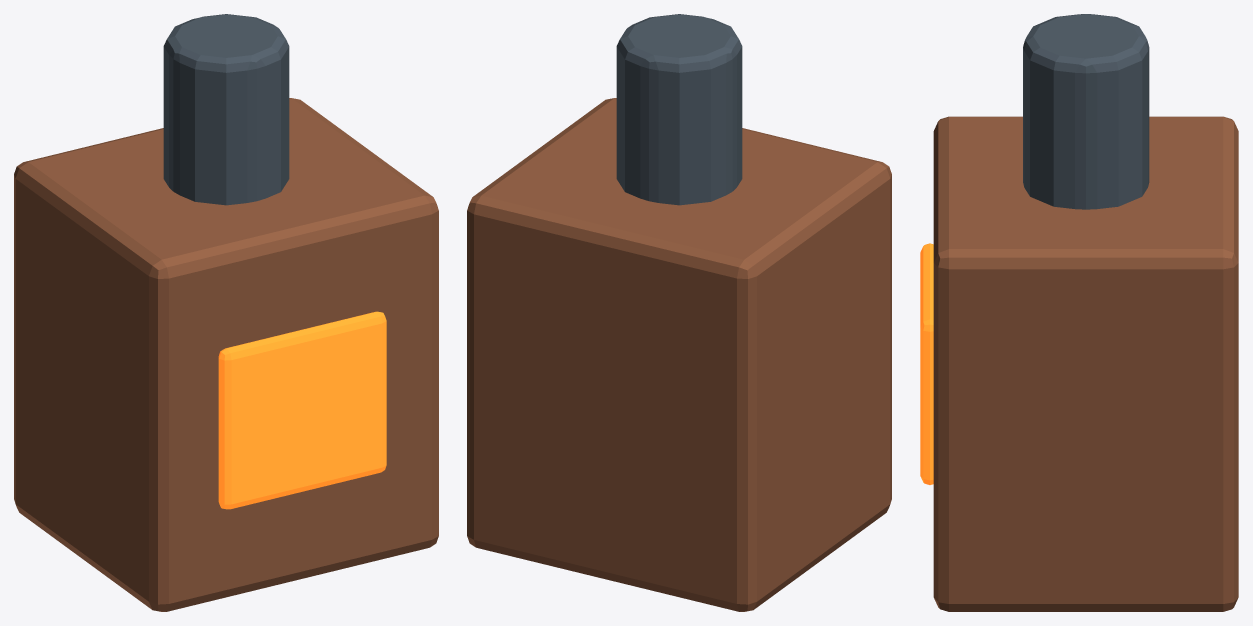
File: Foundry-Furnace.glb
3 views of the same model, side by side, from view 1: azimuth 30°, elevation 25°; view 2: azimuth 150°, elevation 25°; view 3: azimuth 270°, elevation 25° (orthographic). The views are drawn at different scales.
Parts seen in each view (by area): view 1: Furnace_Body.001, Furnace_Mouth.001, Furnace_Chimney.001; view 2: Furnace_Body.001, Furnace_Chimney.001; view 3: Furnace_Body.001, Furnace_Chimney.001, Furnace_Mouth.001.
Part boxes in pixels (x1=…): Furnace_Body.001: x1=14, y1=98, x2=438, y2=611; Furnace_Mouth.001: x1=218, y1=311, x2=386, y2=509; Furnace_Chimney.001: x1=163, y1=14, x2=289, y2=205; Furnace_Body.001: x1=467, y1=98, x2=891, y2=611; Furnace_Chimney.001: x1=616, y1=14, x2=742, y2=205; Furnace_Body.001: x1=933, y1=116, x2=1238, y2=611; Furnace_Chimney.001: x1=1023, y1=14, x2=1149, y2=209; Furnace_Mouth.001: x1=920, y1=243, x2=933, y2=484.
Size of the model in its own units: 1.8 by 2.95 by 1.67.
